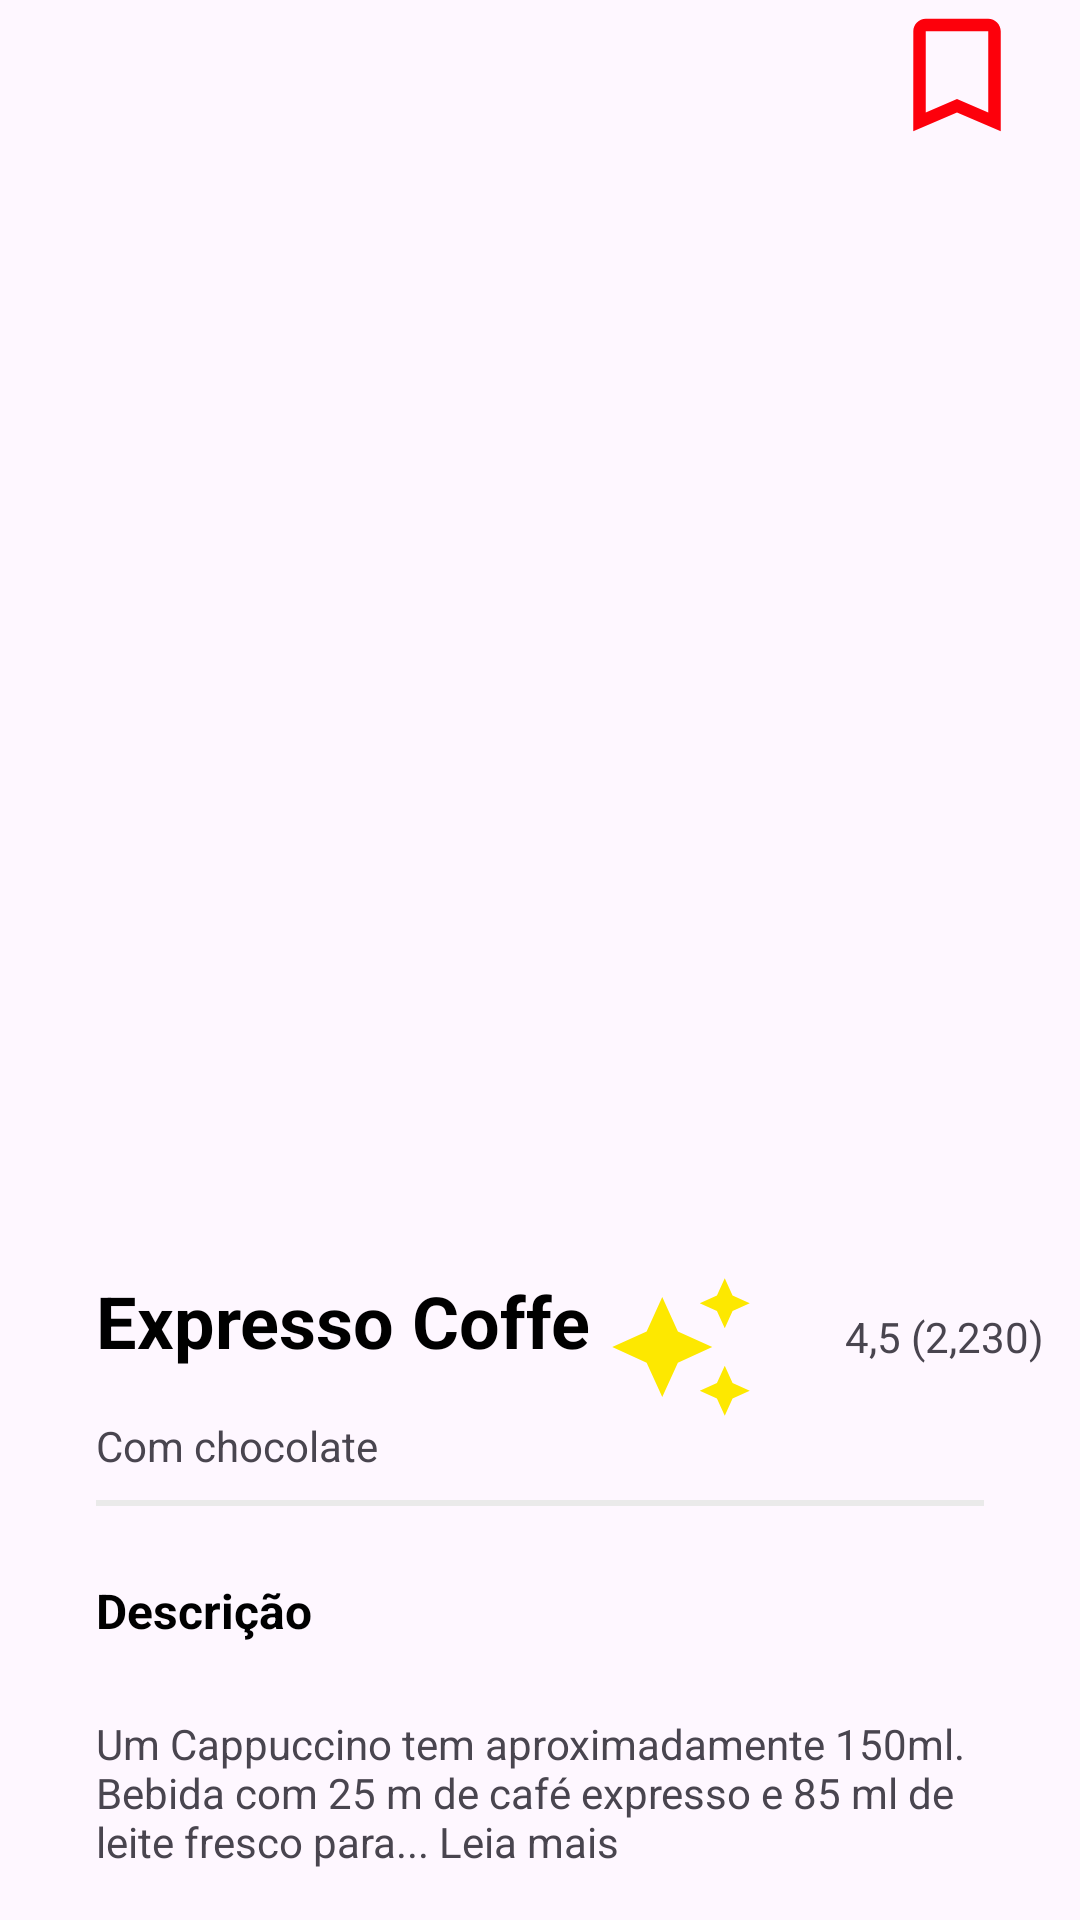

Where to tap for icons on this 1080px x 1920px app screen, as point (x, y):
auto awesome: point (681, 1347)
bookmark border: point (957, 74)
